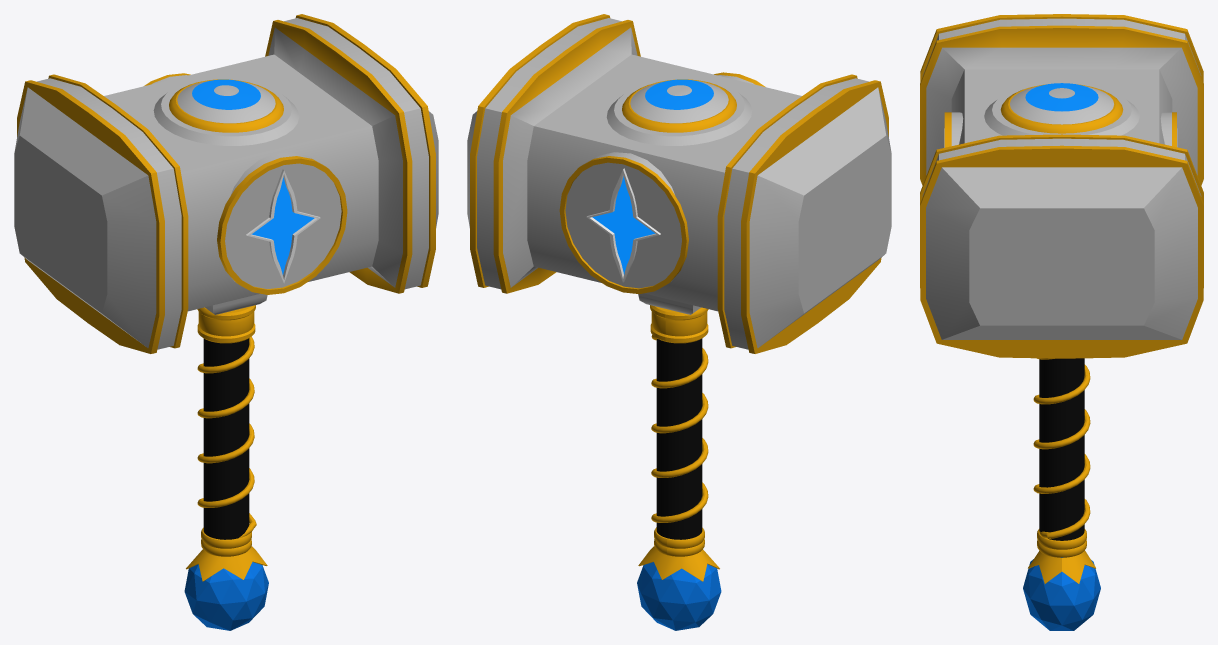
File: martillo.glb
3 renders of one model, left to right at view 1: azimuth 30°, elevation 25°; view 2: azimuth 150°, elevation 25°; view 3: azimuth 270°, elevation 25°, orthographic.
Visible parts, largest first — view 1: Martillo; view 2: Martillo; view 3: Martillo.
Boxes of the visible parts, left/top/right/bottom form: Martillo: left=14, top=14, right=438, bottom=630; Martillo: left=467, top=14, right=891, bottom=630; Martillo: left=920, top=14, right=1203, bottom=630.
Size of the model in its own units: 1.16 by 1.84 by 0.863.
